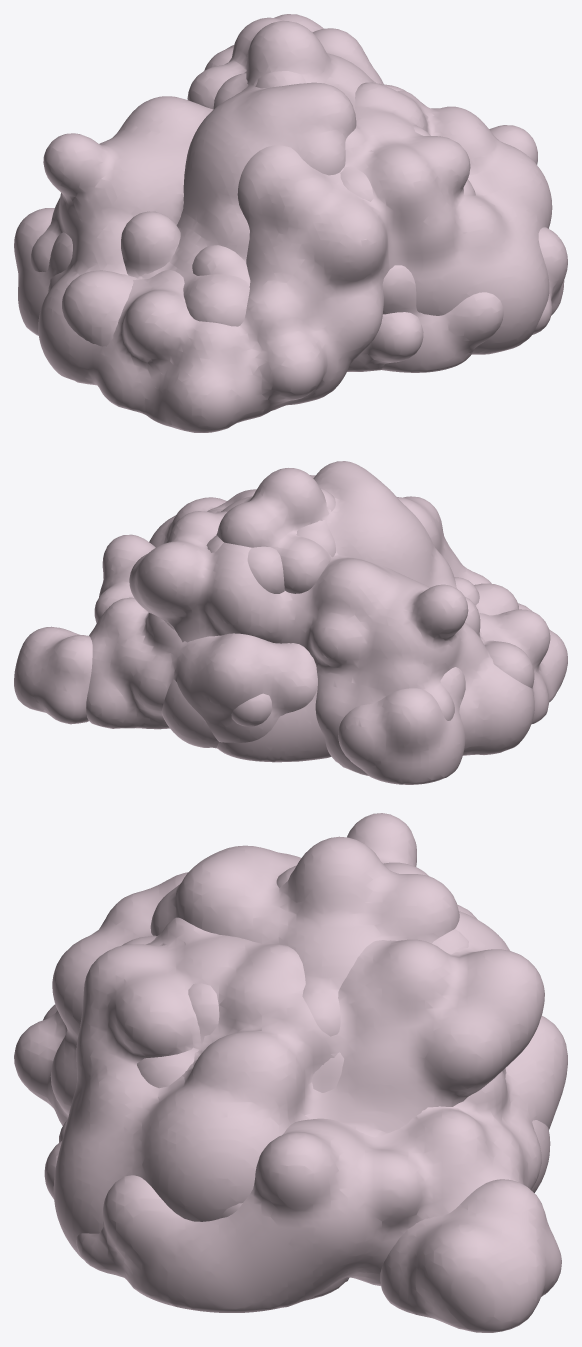
Rendered from Nubes_Algodon.fbx.
3 renders of one model, top to bottom at view 1: azimuth 30°, elevation 25°; view 2: azimuth 150°, elevation 25°; view 3: azimuth 270°, elevation 25°, orthographic. The views are drawn at different scales.
Visible parts, largest first — view 1: Nube_3, Nube_2, Nube_1, Nube_0; view 2: Nube_3, Nube_2, Nube_1, Nube_0; view 3: Nube_3, Nube_2, Nube_1, Nube_0.
Part boxes in pixels (bbox=[...]): Nube_3: bbox=[31, 14, 552, 432]; Nube_2: bbox=[14, 17, 567, 372]; Nube_1: bbox=[121, 47, 475, 285]; Nube_0: bbox=[347, 312, 423, 371]; Nube_3: bbox=[14, 475, 567, 775]; Nube_2: bbox=[86, 461, 534, 784]; Nube_1: bbox=[164, 488, 483, 762]; Nube_0: bbox=[231, 693, 272, 726]; Nube_3: bbox=[14, 813, 561, 1332]; Nube_2: bbox=[44, 836, 567, 1312]; Nube_1: bbox=[122, 865, 477, 1300]; Nube_0: bbox=[59, 1052, 344, 1142].
Bounding box in the file's own units: 13.69 × 7.28 × 10.33.
